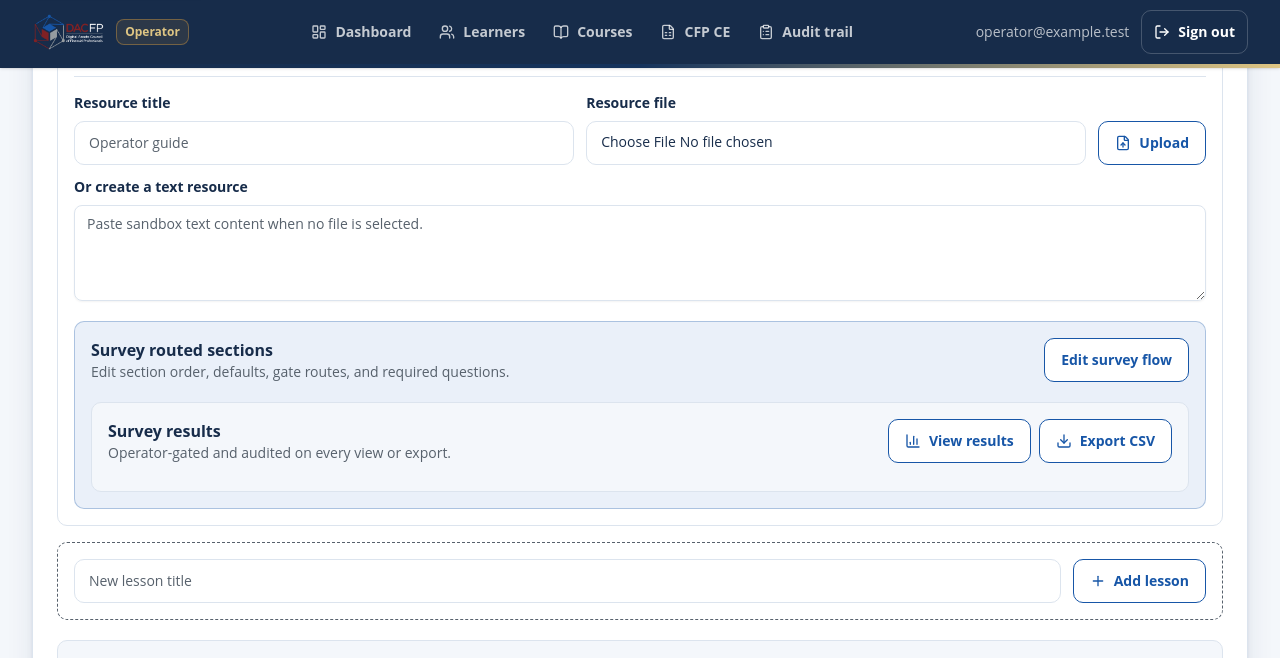
Test: Admin surveys — V1b routed editor and results › surfaces the affected response count before confirming an orphaning edit
The width and height of the screenshot is (1280, 658).
(page scrolled)
Click the button "Edit survey flow". click: (1117,360)
box: [1044,338,1189,382]
(page scrolled)
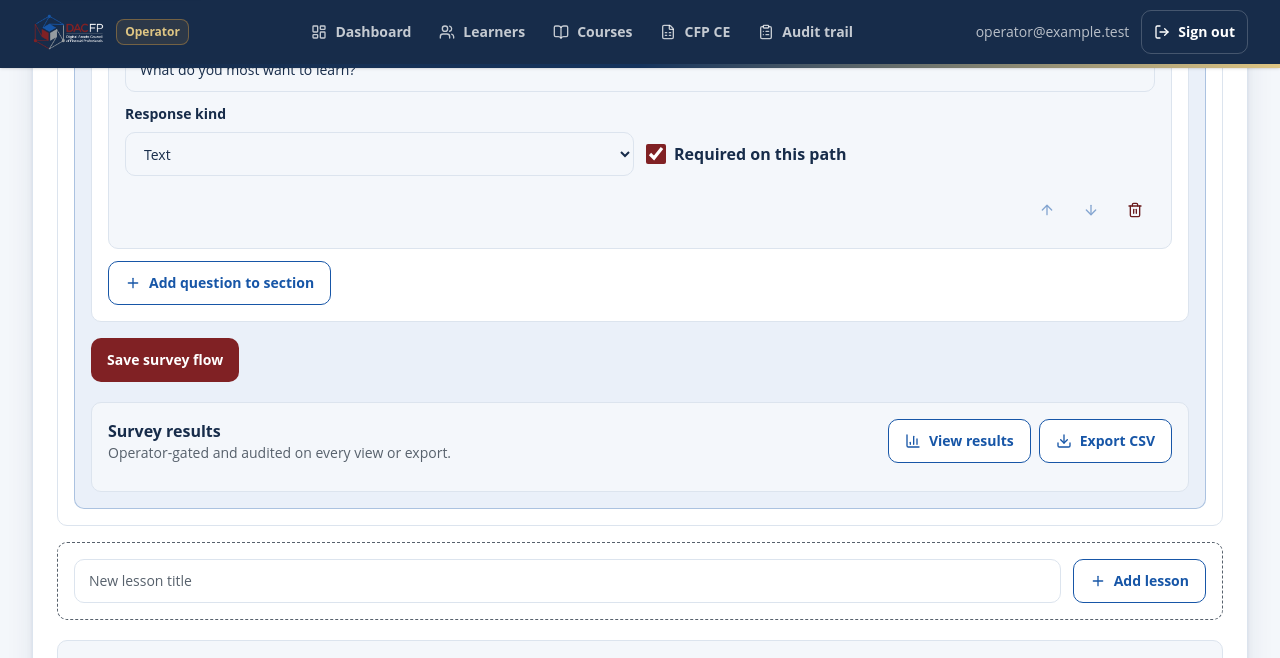
Click the button "Save survey flow". click: (165,360)
box: [91,338,239,382]
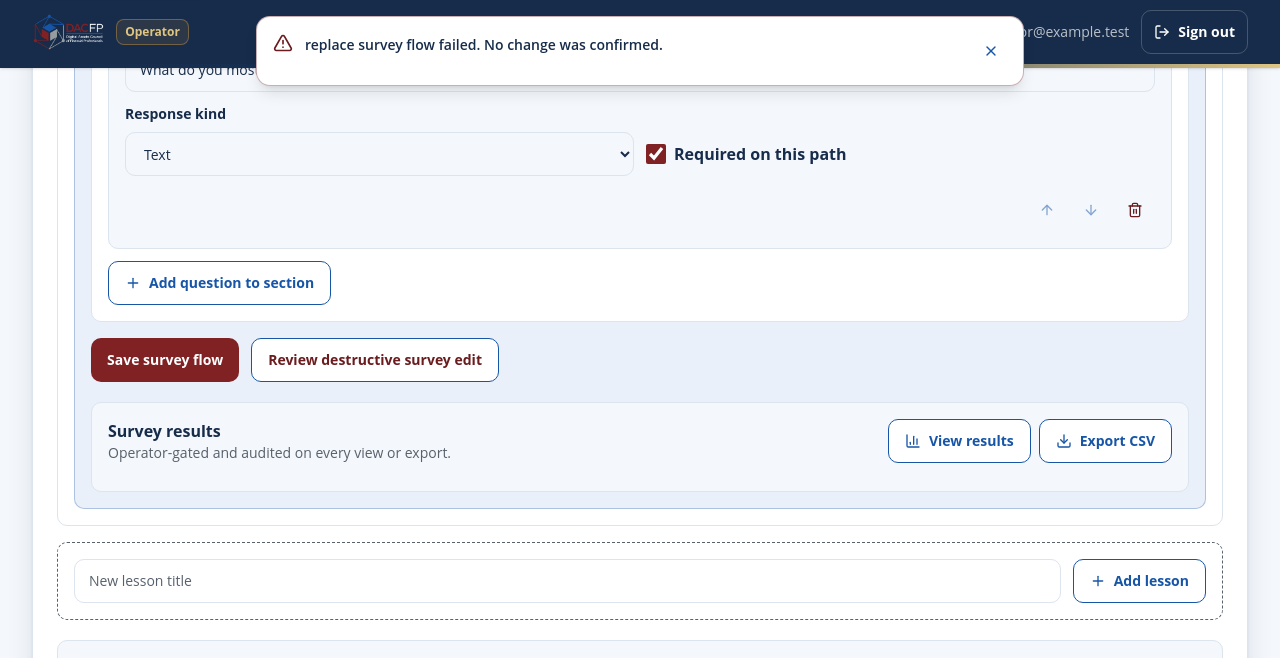
Click the button "Review destructive survey edit". click: (375,360)
box: [251,338,499,382]
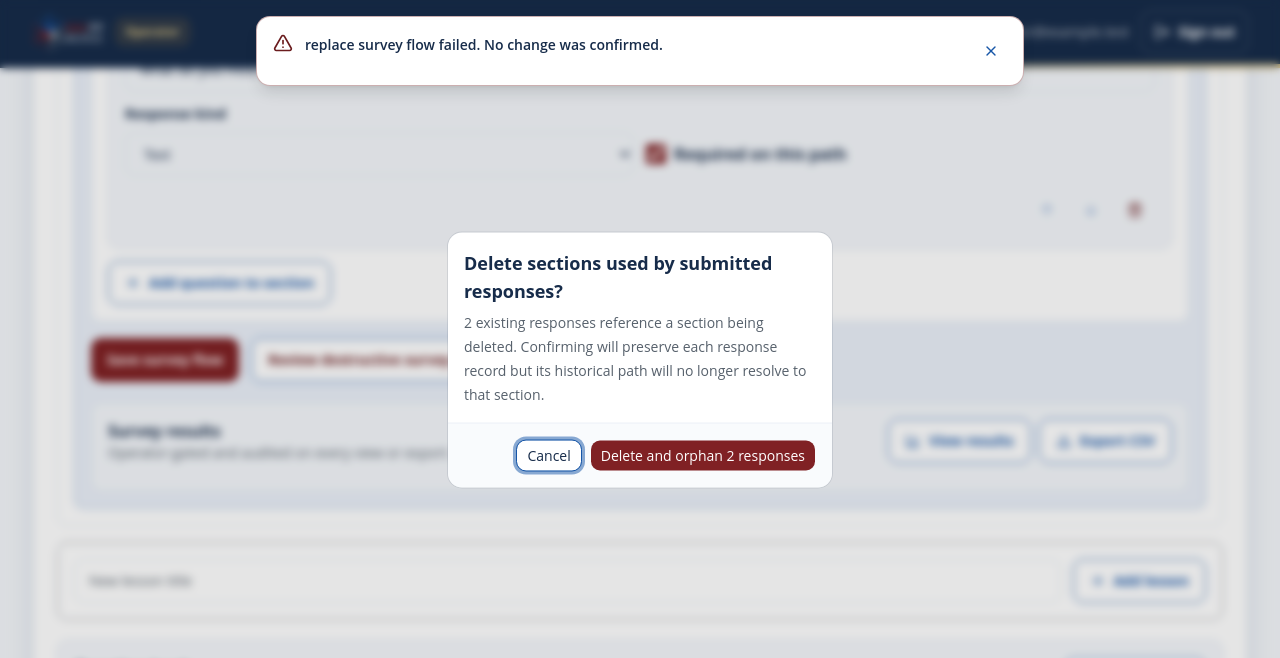
Result: the text "2 existing responses reference a section being deleted" is shown at [464,312,806,404]
Click the button "Delete and orphan 2 responses". click: (703,456)
box: [590,440,816,472]
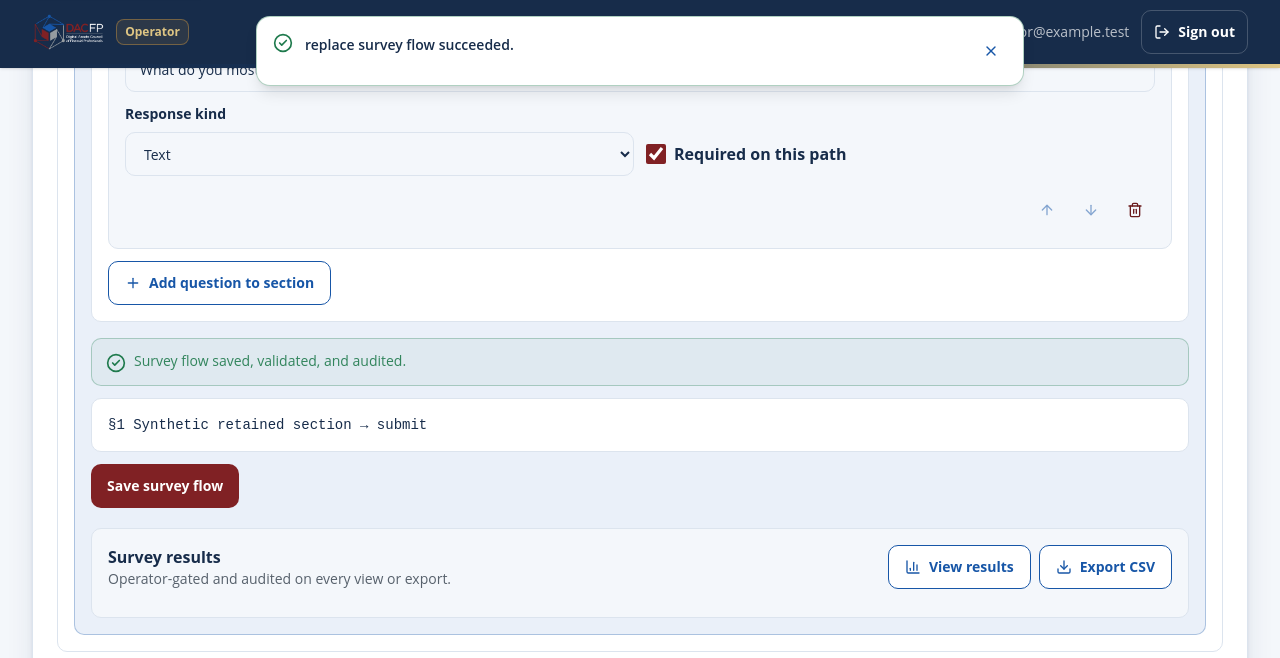
Result: the text named "Survey flow outline" shows "Synthetic retained" at [108,417,427,433]
